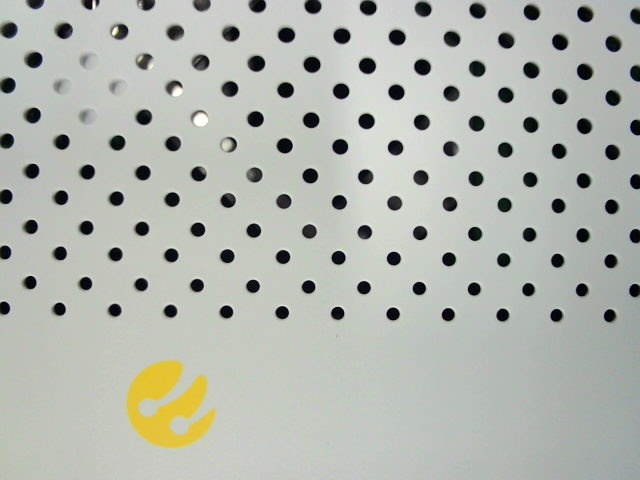AV_H3600Yellow: (107, 351, 228, 451)
